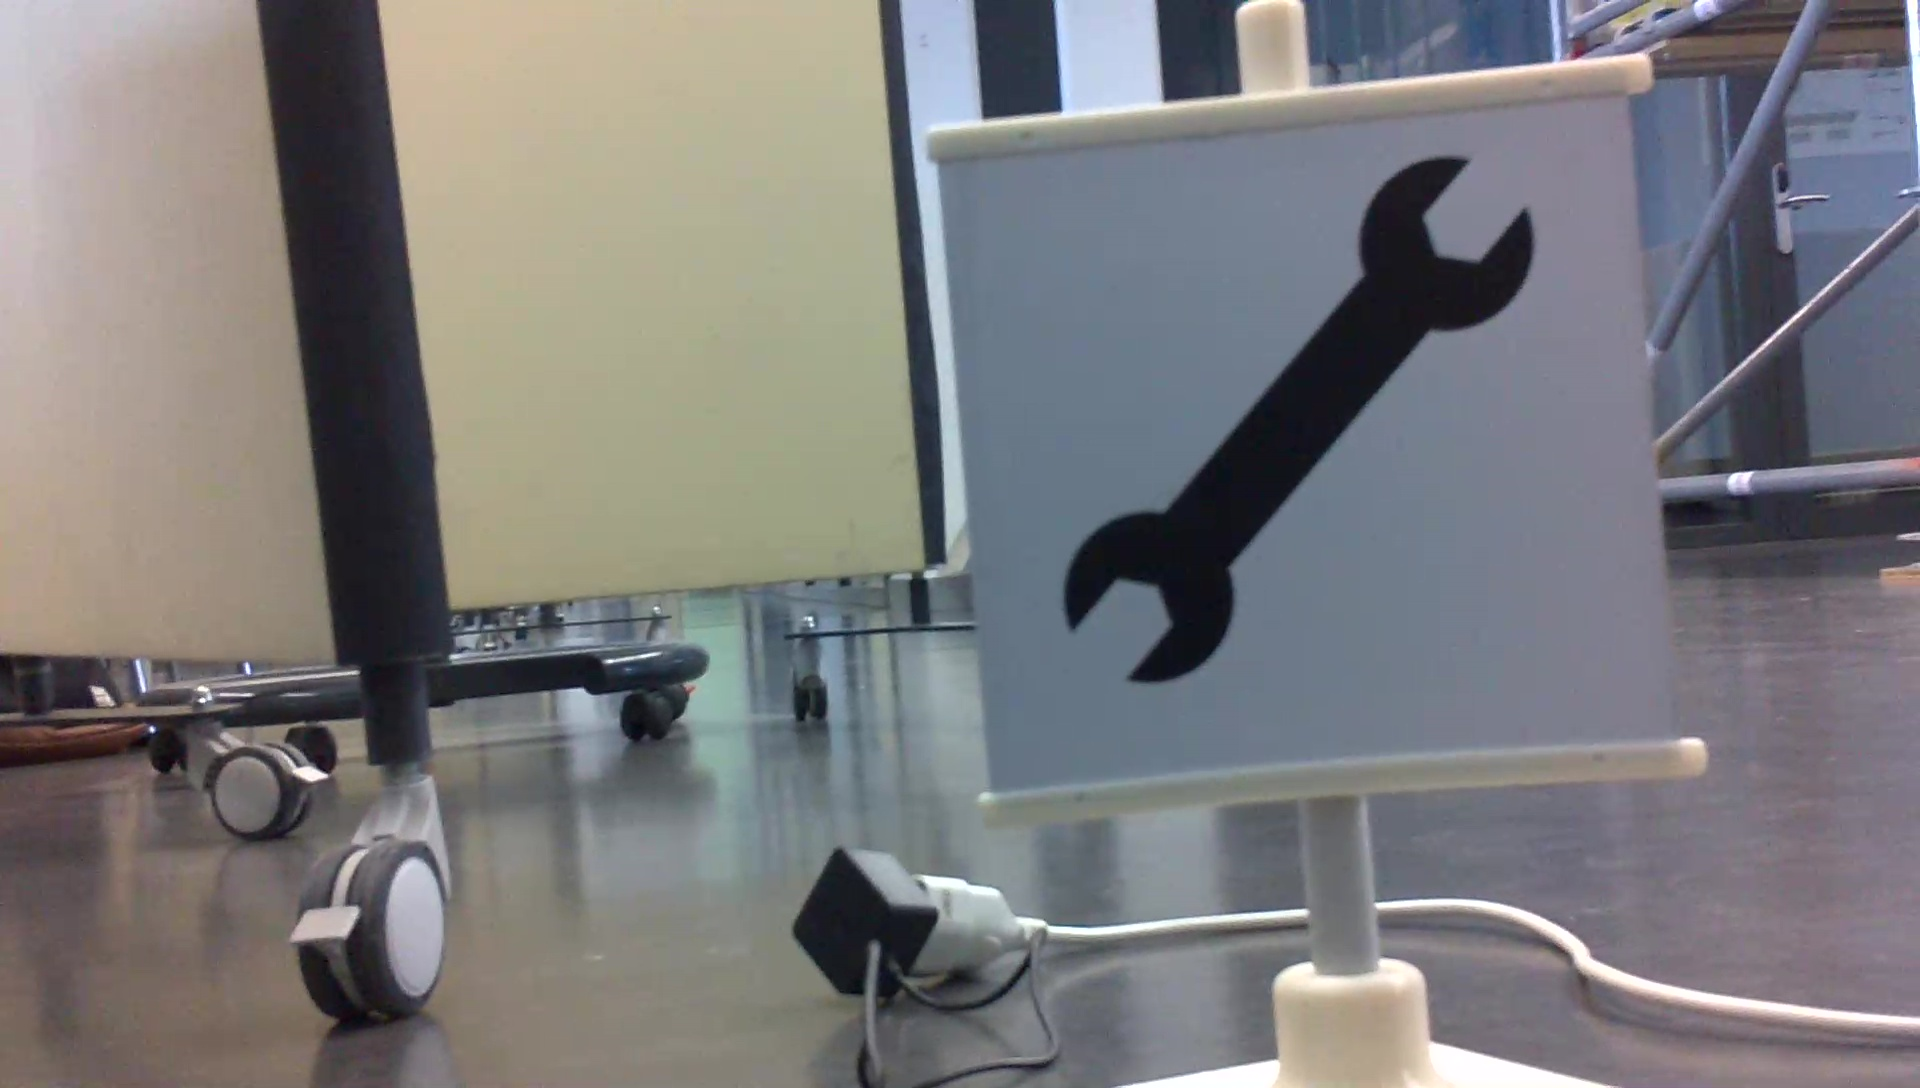wrench: (1050, 150, 1545, 692)
